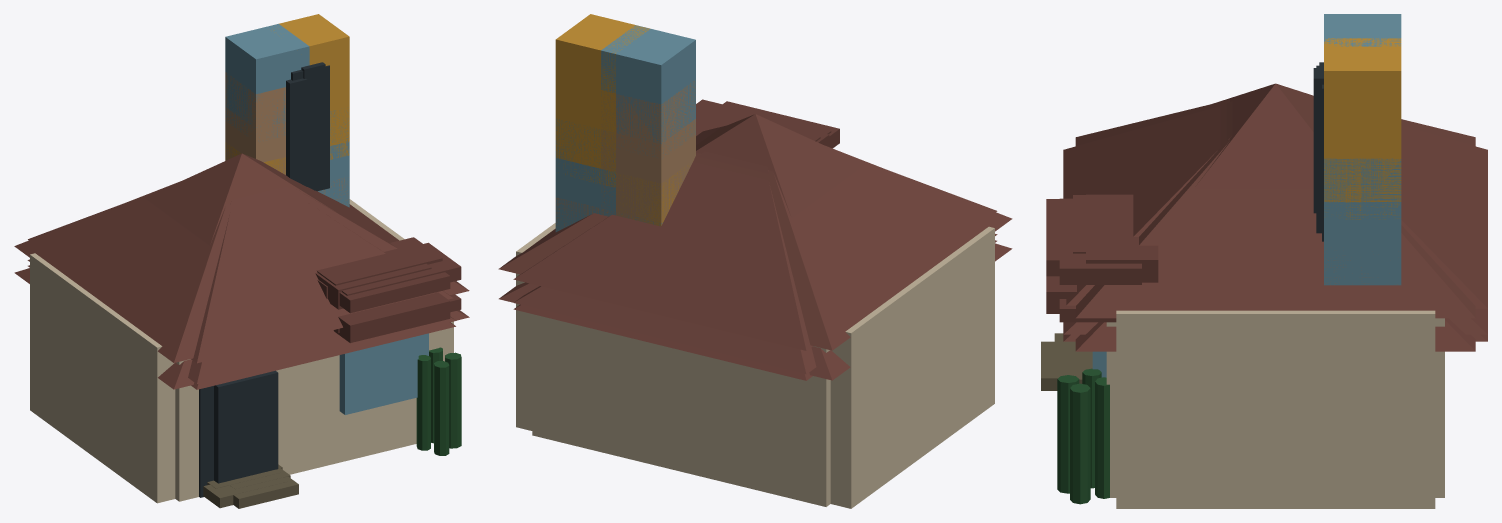
File: residential.f7b75ff1d291.glb
3 views of the same model, side by side, from view 1: azimuth 30°, elevation 25°; view 2: azimuth 150°, elevation 25°; view 3: azimuth 270°, elevation 25° (orthographic). The views are drawn at different scales.
Parts seen in each view (by area): view 1: house-cottage__near, house-stilt__near, house-row__near, apartment-brick__near, house-terrace__near, apartment-courtyard__near, house-corner__near, house-townhome__near, house-duplex__near, apartment-walkup__near, house-courtyard__near, house-modern__near (+2 smaller); view 2: house-stilt__near, house-cottage__near, house-terrace__near, house-row__near, apartment-brick__near, apartment-courtyard__near, house-corner__near, house-townhome__near, house-duplex__near, house-garden__near, apartment-walkup__near; view 3: house-cottage__near, house-row__near, house-stilt__near, apartment-courtyard__near, house-townhome__near, house-duplex__near, house-terrace__near, apartment-walkup__near, apartment-brick__near, house-corner__near.
Part boxes in pixels (x1,y1,x2,y2): house-cottage__near: [14, 14, 469, 506]; house-stilt__near: [28, 110, 453, 505]; house-row__near: [14, 24, 469, 508]; apartment-brick__near: [27, 259, 456, 507]; house-terrace__near: [28, 107, 455, 508]; apartment-courtyard__near: [145, 62, 442, 488]; house-corner__near: [225, 72, 433, 442]; house-townhome__near: [207, 71, 439, 484]; house-duplex__near: [289, 142, 430, 477]; apartment-walkup__near: [230, 70, 431, 489]; house-courtyard__near: [278, 78, 348, 469]; house-modern__near: [286, 122, 307, 185]; house-stilt__near: [513, 101, 997, 506]; house-cottage__near: [498, 14, 1012, 507]; house-terrace__near: [513, 119, 996, 506]; house-row__near: [499, 25, 1012, 508]; apartment-brick__near: [514, 234, 997, 506]; apartment-courtyard__near: [696, 107, 865, 217]; house-corner__near: [601, 81, 695, 198]; house-townhome__near: [555, 79, 615, 187]; house-duplex__near: [555, 143, 829, 231]; house-garden__near: [601, 165, 689, 226]; apartment-walkup__near: [698, 109, 829, 173]; house-cottage__near: [1054, 38, 1475, 508]; house-row__near: [1059, 14, 1475, 508]; house-stilt__near: [1041, 106, 1487, 497]; apartment-courtyard__near: [1081, 65, 1323, 498]; house-townhome__near: [1095, 93, 1401, 498]; house-duplex__near: [1079, 202, 1401, 488]; house-terrace__near: [1041, 300, 1487, 497]; apartment-walkup__near: [1068, 62, 1323, 487]; apartment-brick__near: [1041, 276, 1487, 495]; house-corner__near: [1095, 147, 1321, 498].
Bounding box in the file's own units: 0.8892 × 0.97 × 0.9254.
